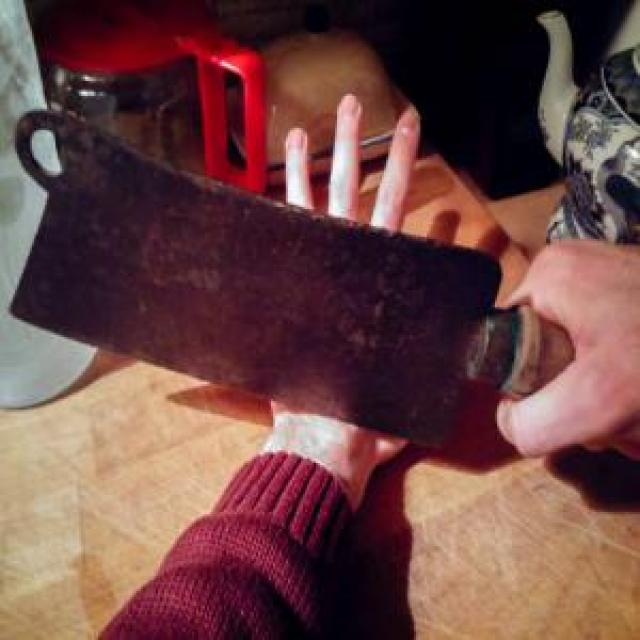knife: (11, 96, 638, 457)
